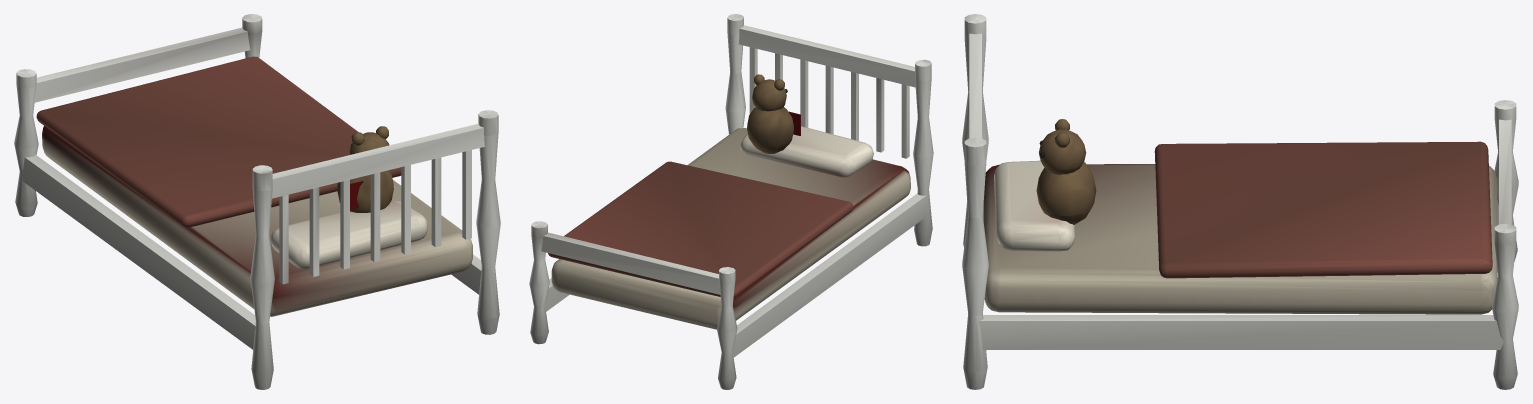
Rendered from KidsBed.glb.
The picture shows the model from 3 angles, left to right: view 1: azimuth 30°, elevation 25°; view 2: azimuth 150°, elevation 25°; view 3: azimuth 270°, elevation 25°; orthographic projection. The views are drawn at different scales.
Visible parts, largest first — view 1: KidsBed_paint_white, KidsBed_quilt, KidsBed_linen, KidsBed_cloth_white, KidsBed_burlap_clean; view 2: KidsBed_paint_white, KidsBed_quilt, KidsBed_linen, KidsBed_cloth_white, KidsBed_burlap_clean; view 3: KidsBed_quilt, KidsBed_paint_white, KidsBed_linen, KidsBed_cloth_white, KidsBed_burlap_clean.
Part boxes in pixels (box(x1,y1,x2,y2)): KidsBed_paint_white: box(14, 14, 500, 389); KidsBed_quilt: box(36, 56, 401, 227); KidsBed_linen: box(42, 126, 472, 316); KidsBed_cloth_white: box(270, 200, 428, 269); KidsBed_burlap_clean: box(337, 126, 393, 212); KidsBed_paint_white: box(529, 14, 933, 389); KidsBed_quilt: box(548, 161, 853, 297); KidsBed_linen: box(551, 128, 910, 329); KidsBed_cloth_white: box(740, 126, 873, 177); KidsBed_burlap_clean: box(747, 74, 793, 153); KidsBed_quilt: box(1154, 141, 1492, 278); KidsBed_paint_white: box(962, 14, 1518, 389); KidsBed_linen: box(983, 164, 1497, 314); KidsBed_cloth_white: box(994, 160, 1074, 251); KidsBed_burlap_clean: box(1036, 119, 1096, 224).
Bounding box in the file's own units: 4.05 × 3.4 × 7.03.
